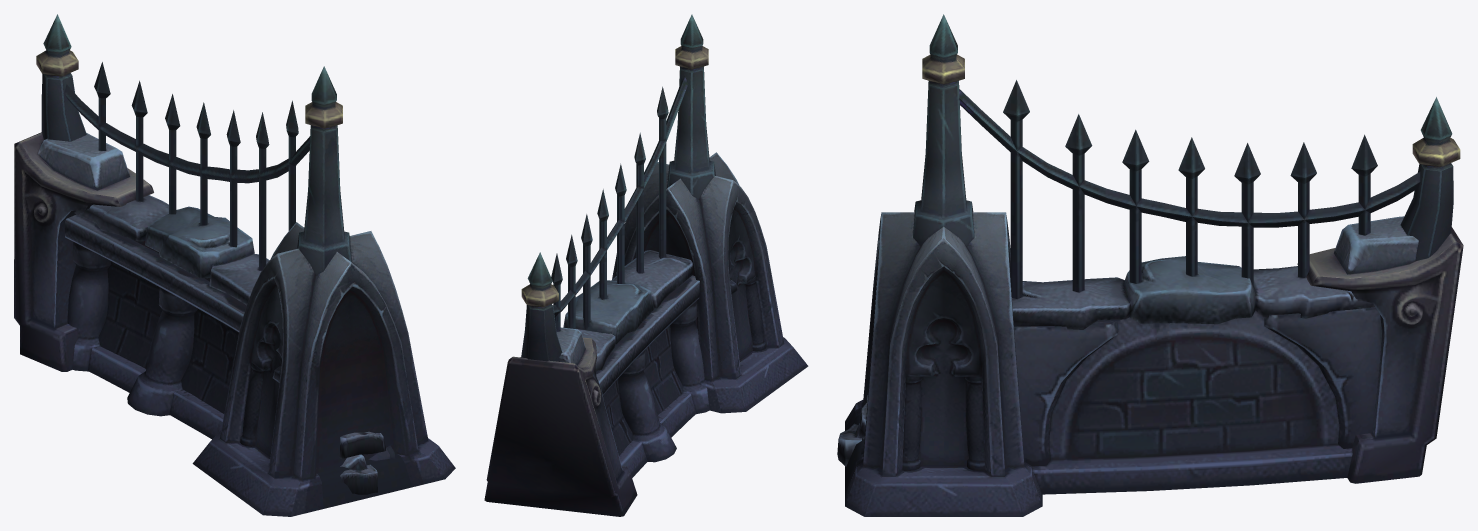
File: Wall_01.obj
3 views of the same model, side by side, from view 1: azimuth 30°, elevation 25°; view 2: azimuth 150°, elevation 25°; view 3: azimuth 270°, elevation 25° (orthographic). The views are drawn at different scales.
Parts seen in each view (by area): view 1: Storm_Building_WinterCrest_Wall_0; view 2: Storm_Building_WinterCrest_Wall_0; view 3: Storm_Building_WinterCrest_Wall_0.
Boxes of the visible parts, x1,y1,x2,y2 form: Storm_Building_WinterCrest_Wall_0: (14,14,455,516); Storm_Building_WinterCrest_Wall_0: (484,14,808,516); Storm_Building_WinterCrest_Wall_0: (837,14,1463,516).
Size of the model in its own units: 351 by 647 by 806.
1 material, 1 textured.
